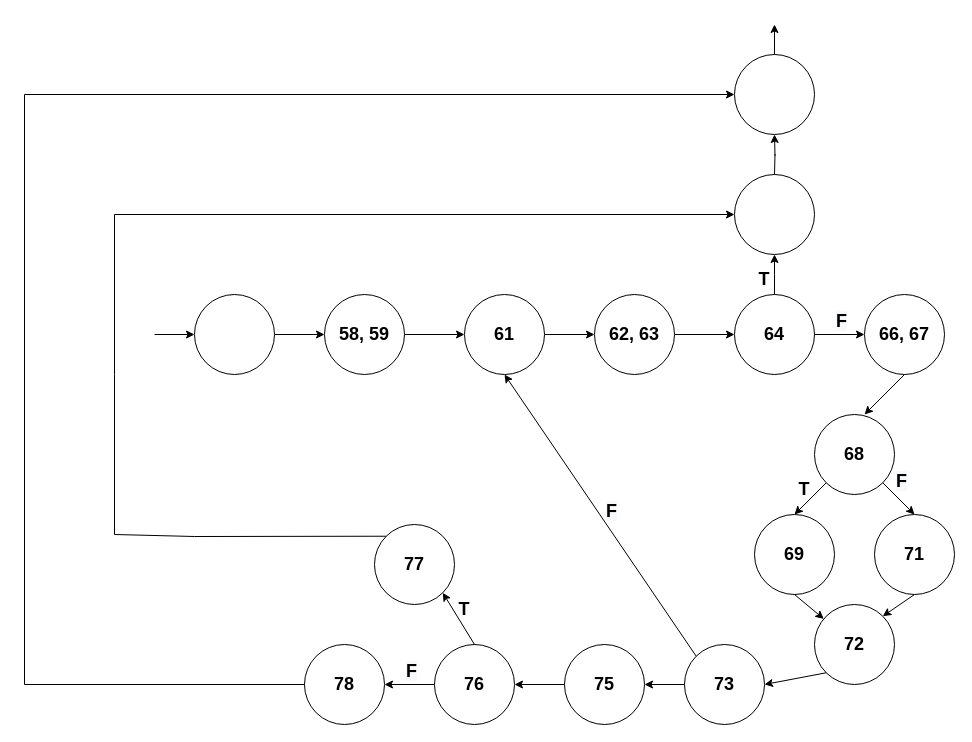
The diagram is 972 pixels wide and 742 high, and some of its shapes have lost their labels. The centre of each missing label's shape, as x and y in pixels:
"entrance" goes at point (234, 334).
"Error" goes at point (774, 214).
"exit" goes at point (774, 94).
